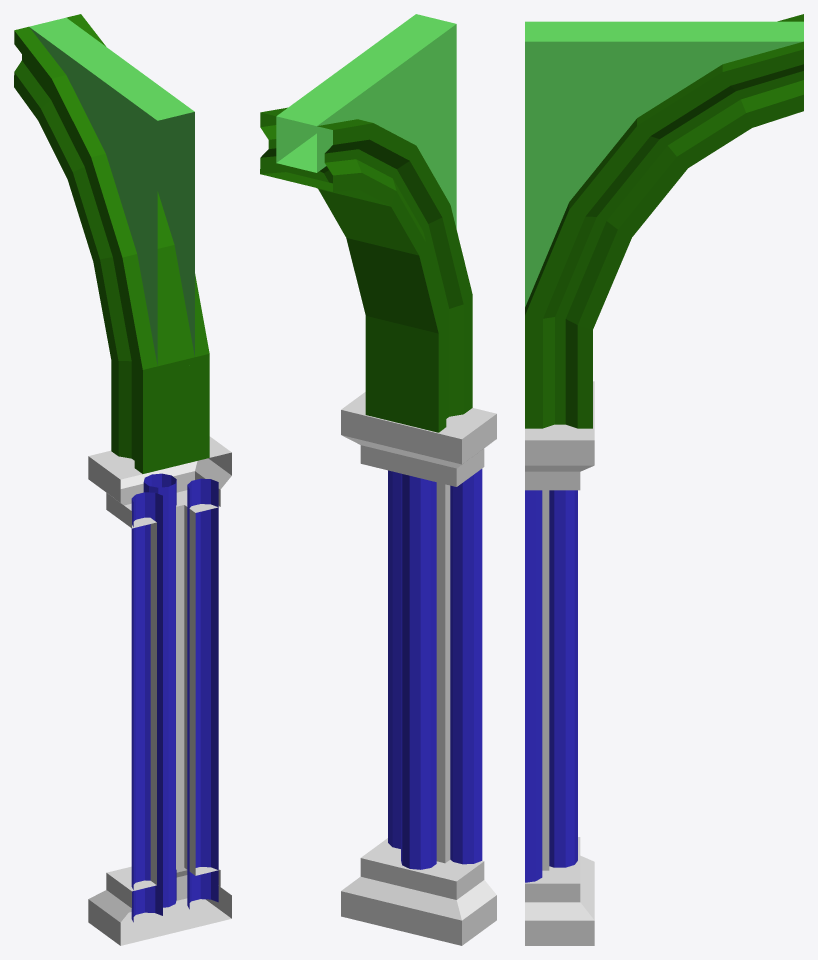
The model's file is ArchAndPillar_Half.fbx.
3 renders of one model, left to right at view 1: azimuth 30°, elevation 25°; view 2: azimuth 150°, elevation 25°; view 3: azimuth 270°, elevation 25°, orthographic. The views are drawn at different scales.
Visible parts, largest first — view 1: pillar, Cube, Cube.001; view 2: pillar, Cube, Cube.001; view 3: Cube, pillar, Cube.001.
Part boxes in pixels (x1,y1,x2,y2): pillar: (88,436,231,945); Cube: (14,14,209,473); Cube.001: (29,17,194,365); pillar: (341,392,496,945); Cube: (260,107,472,432); Cube.001: (276,14,456,228); Cube: (525,14,803,428); pillar: (525,381,594,945); Cube.001: (525,21,803,306).
Bounding box in the file's own units: 100 × 700 × 200.
